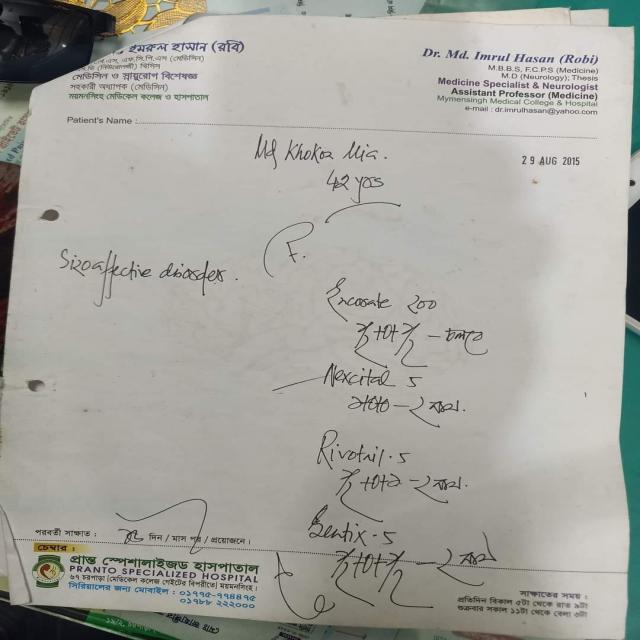Nexcital: (313, 353, 401, 392)
Rivotril: (299, 423, 391, 470)
Sentix: (288, 505, 378, 550)
